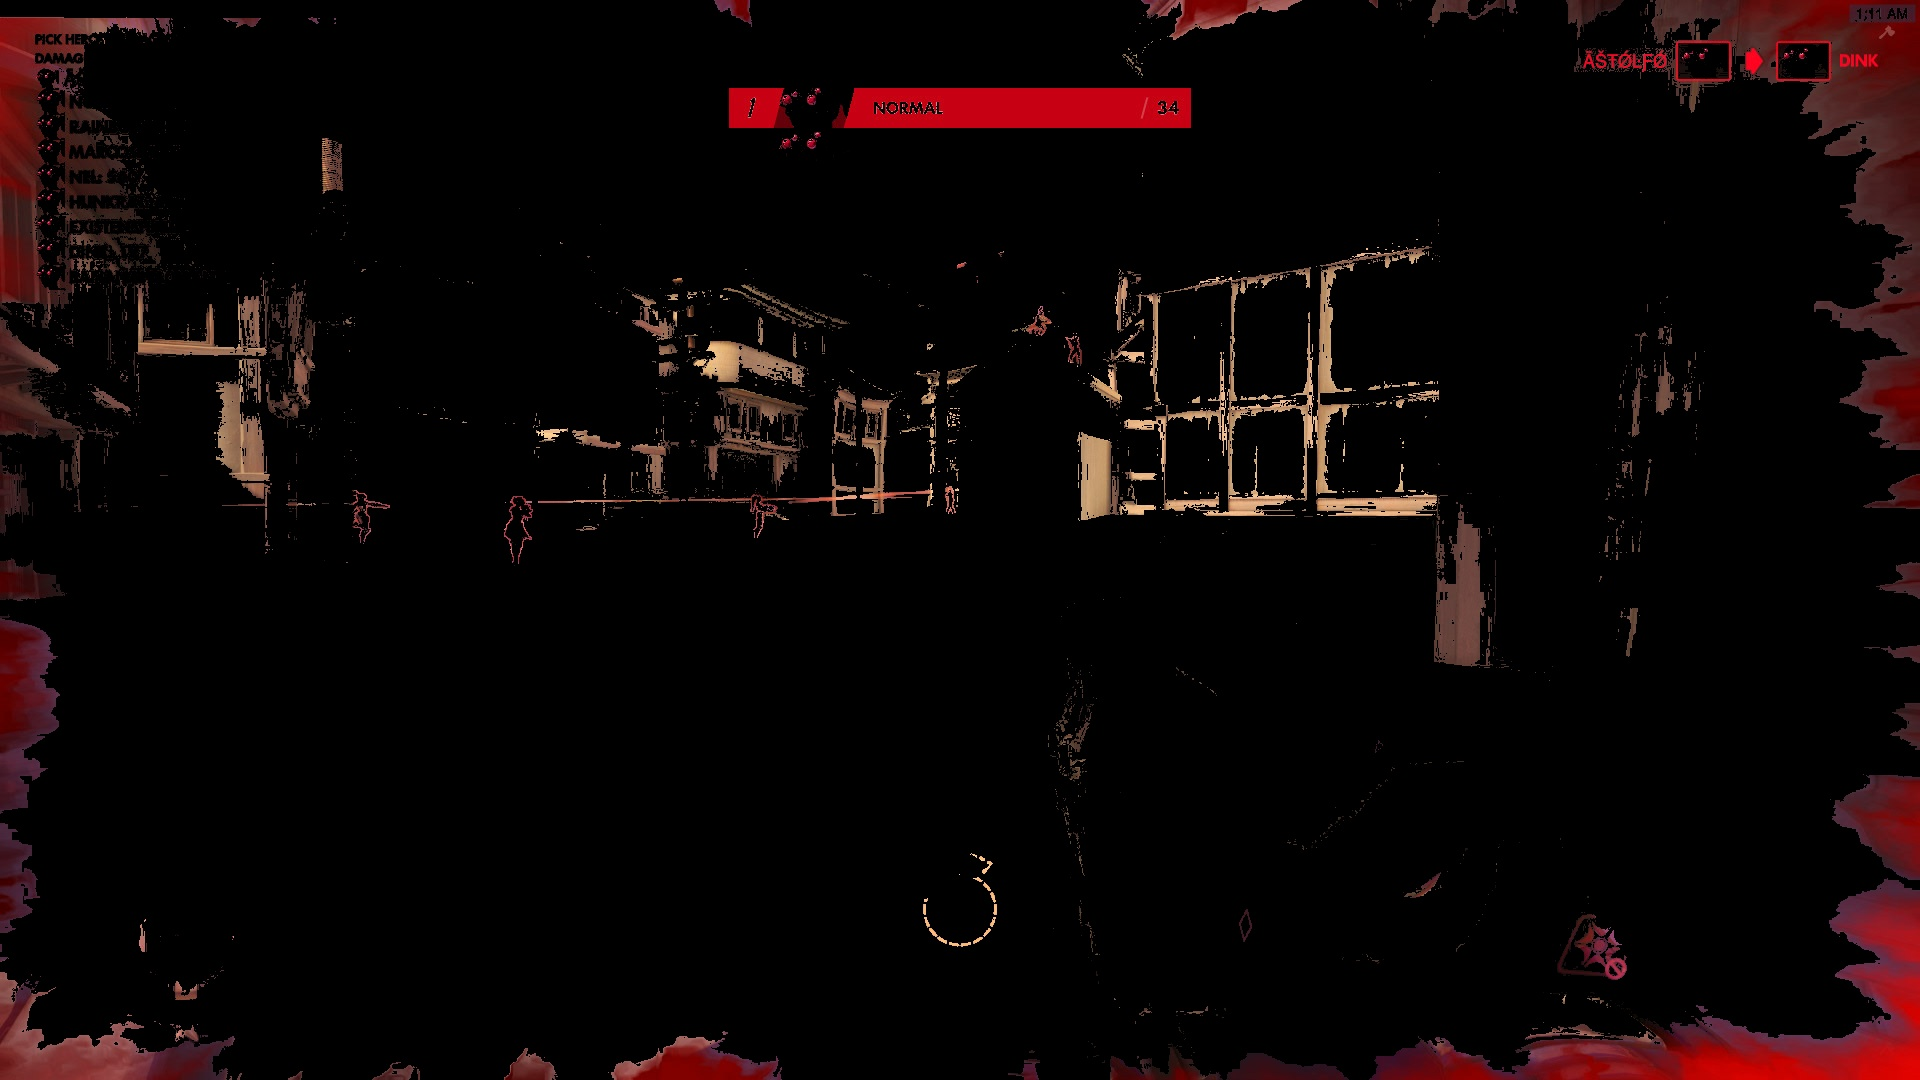widowmaker: (496, 495, 537, 575), (347, 491, 389, 553), (745, 493, 779, 546), (1025, 306, 1054, 343), (1065, 334, 1083, 369), (943, 484, 959, 521)
